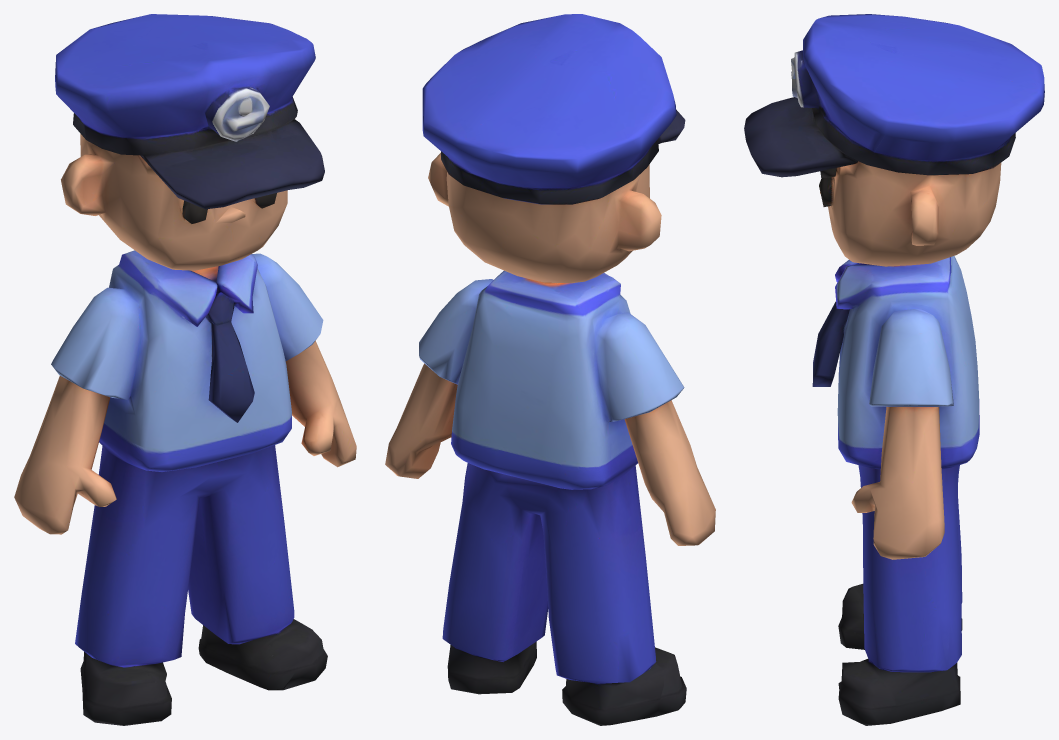
Rendered from busdriver.glb.
3 views of the same model, side by side, from view 1: azimuth 30°, elevation 25°; view 2: azimuth 150°, elevation 25°; view 3: azimuth 270°, elevation 25° (orthographic). The views are drawn at different scales.
Visible parts, largest first — view 1: tripo_node_0c2fcc36-5eab-4c3b-b688-a36ce9d0e5fd; view 2: tripo_node_0c2fcc36-5eab-4c3b-b688-a36ce9d0e5fd; view 3: tripo_node_0c2fcc36-5eab-4c3b-b688-a36ce9d0e5fd.
Part boxes in pixels (bbox=[...]): tripo_node_0c2fcc36-5eab-4c3b-b688-a36ce9d0e5fd: bbox=[14, 14, 356, 725]; tripo_node_0c2fcc36-5eab-4c3b-b688-a36ce9d0e5fd: bbox=[385, 14, 715, 725]; tripo_node_0c2fcc36-5eab-4c3b-b688-a36ce9d0e5fd: bbox=[744, 14, 1044, 725].
Size of the model in its own units: 0.4945 by 0.9794 by 0.4168.
1 material, 1 textured.
